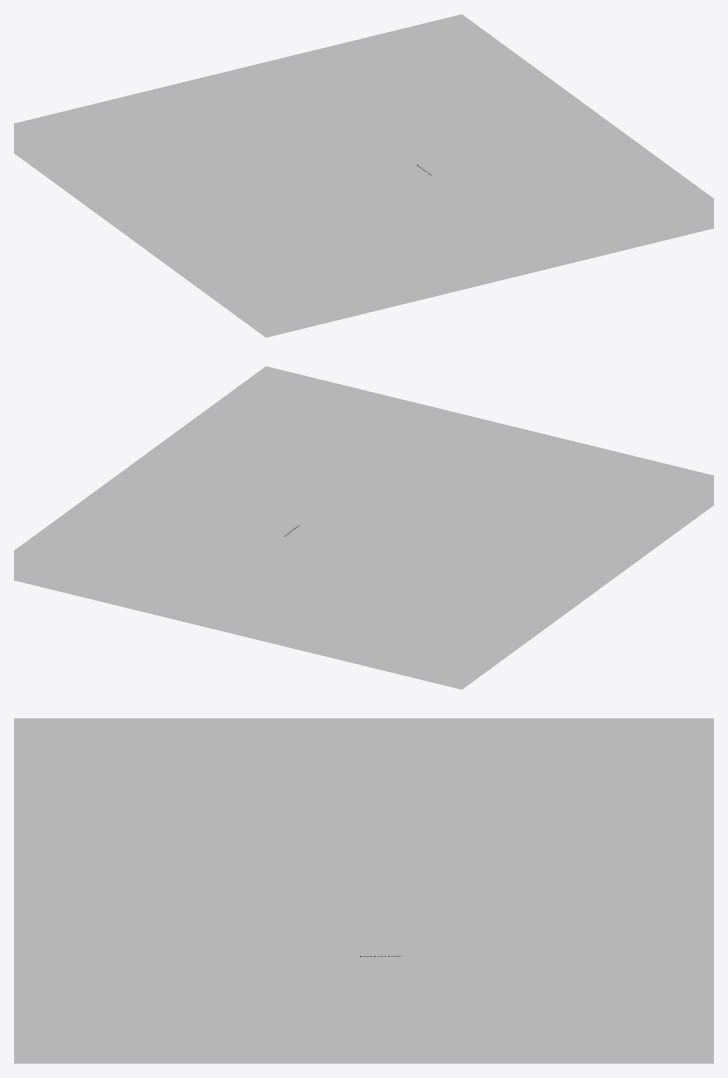
File: thunder_hill_pro_cw.dae
3 renders of one model, top to bottom at view 1: azimuth 30°, elevation 25°; view 2: azimuth 150°, elevation 25°; view 3: azimuth 270°, elevation 25°, orthographic. The views are drawn at different scales.
Visible parts, largest first — view 1: field, wall, road, il, ol, cl; view 2: field, wall, road, il, ol, cl; view 3: field, wall, road, ol, il, cl.
Boxes of the visible parts, x1,y1,x2,y2 form: field: [45, 44, 682, 307]; wall: [14, 14, 713, 337]; road: [140, 68, 563, 290]; il: [170, 81, 533, 282]; ol: [137, 67, 565, 291]; cl: [154, 74, 548, 286]; field: [45, 396, 682, 659]; wall: [14, 366, 713, 689]; road: [71, 448, 607, 631]; il: [100, 461, 577, 617]; ol: [69, 447, 609, 631]; cl: [85, 454, 592, 624]; field: [14, 760, 713, 1021]; wall: [14, 718, 713, 1063]; road: [52, 776, 675, 1021]; ol: [49, 774, 678, 1021]; il: [94, 793, 633, 1021]; cl: [73, 784, 655, 1021].
Size of the model in its own units: 15.73 by 15.32 by 1.
